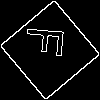F: (25, 25, 73, 59)
